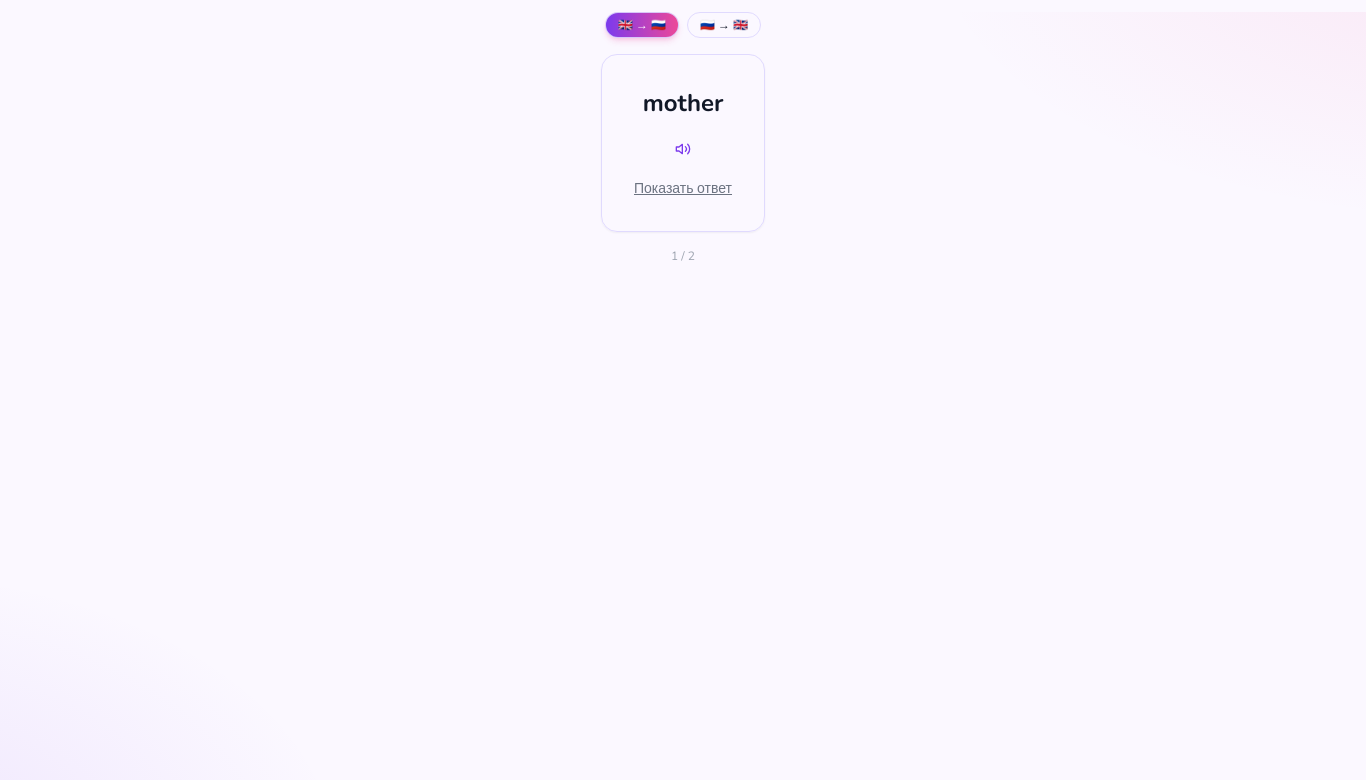
Scenario: FlashcardDeck › advances to the next card and updates the item after an outcome
Expected: the text "mother" is shown, x1=643 y1=87 x2=723 y2=119
Click the button "Показать ответ".
click(683, 189)  # box x1=634 y1=179 x2=732 y2=199
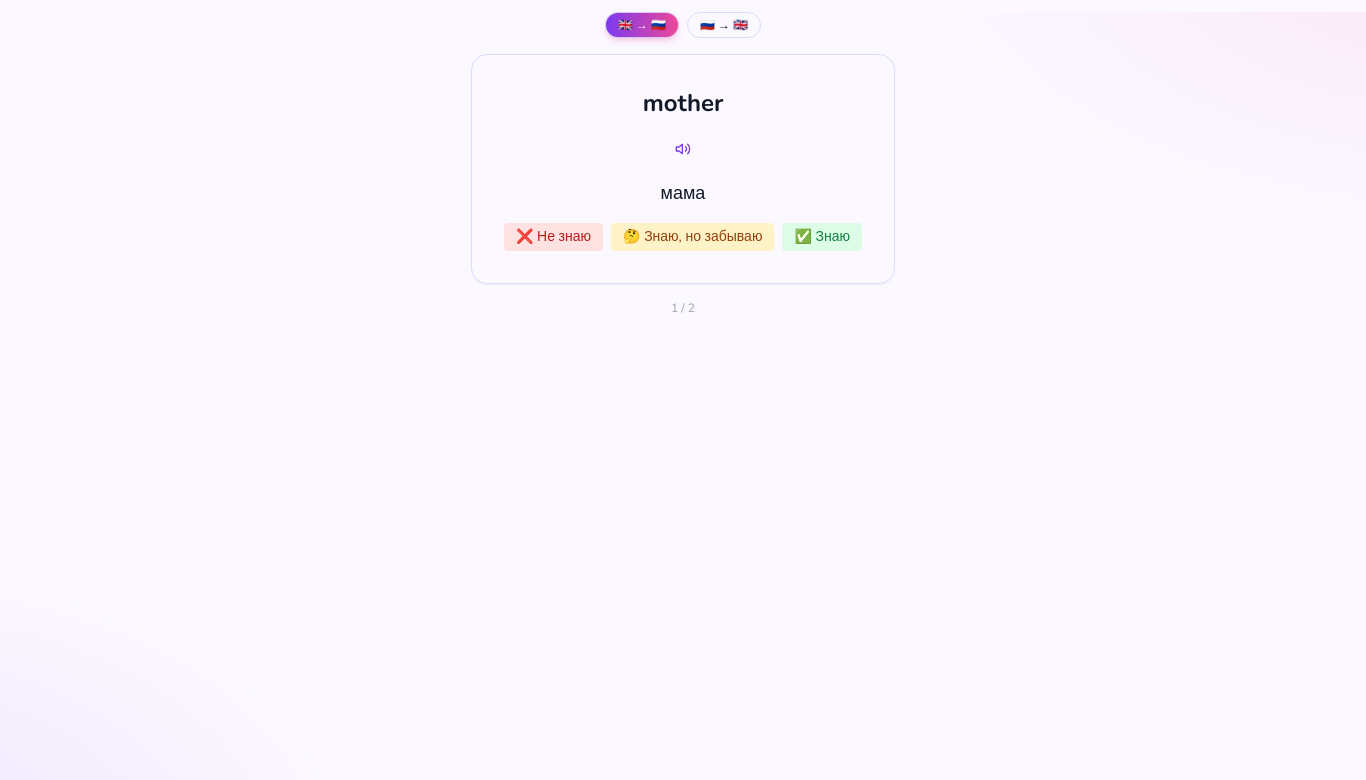
Click the button "✅ Знаю".
click(822, 237)  # box x1=782 y1=223 x2=862 y2=251
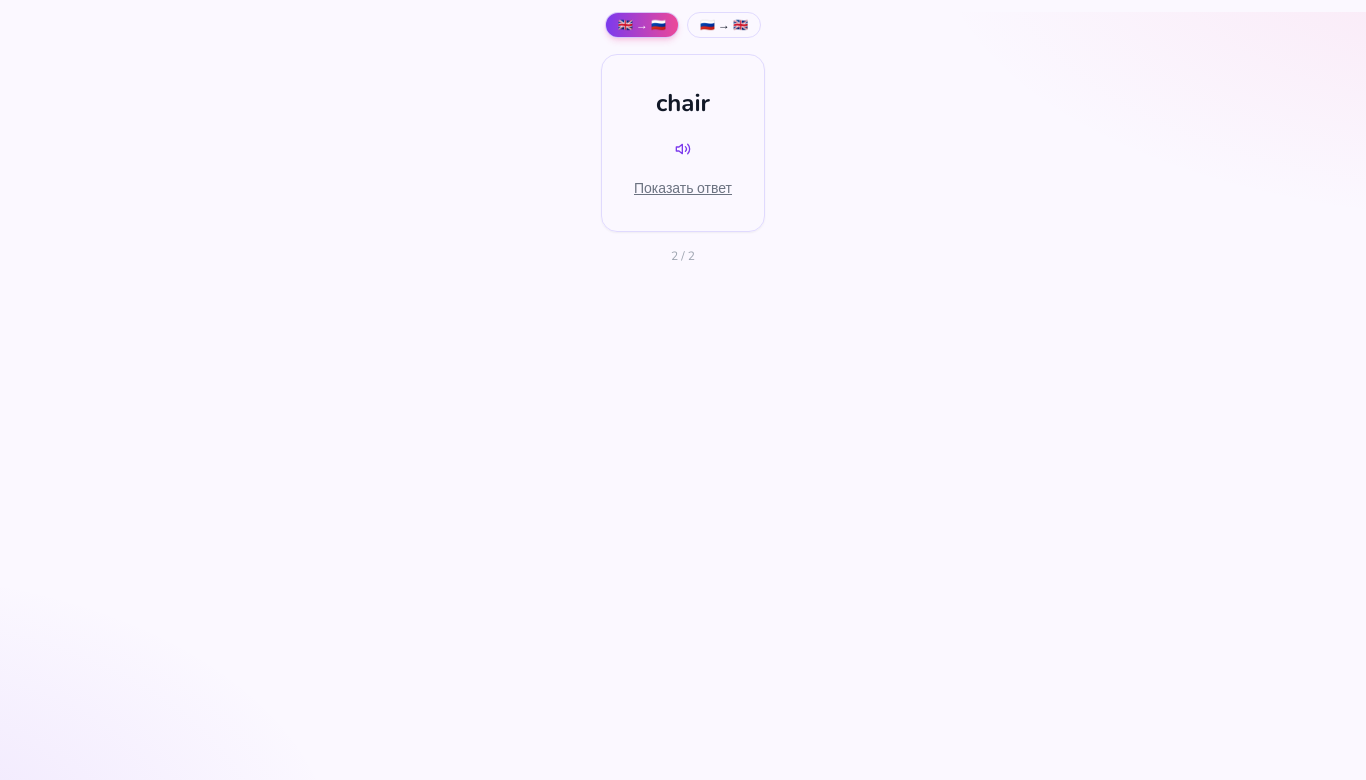
Expected: the text "chair" is shown, x1=656 y1=87 x2=710 y2=119
